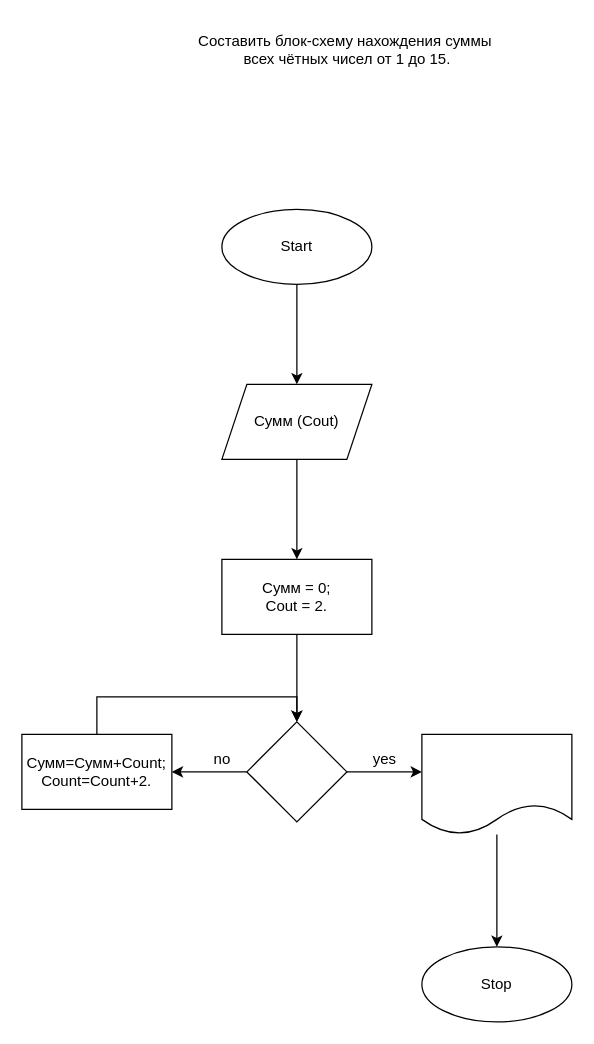
Some shapes in this 594 by 1044 pixel diagram are drawn without their labels. Each missing label, with the centre of its shape:
Count>15: (x=296, y=771)
Print = Сумм: (x=496, y=783)
